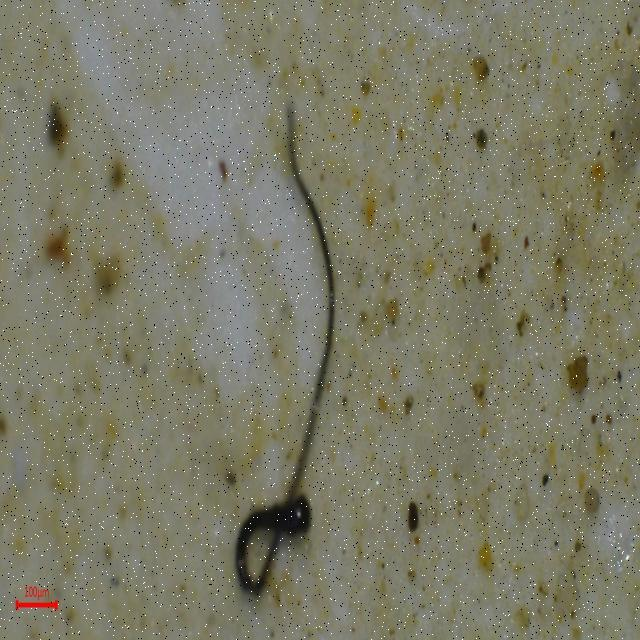Fibre: (210, 89, 342, 603)
